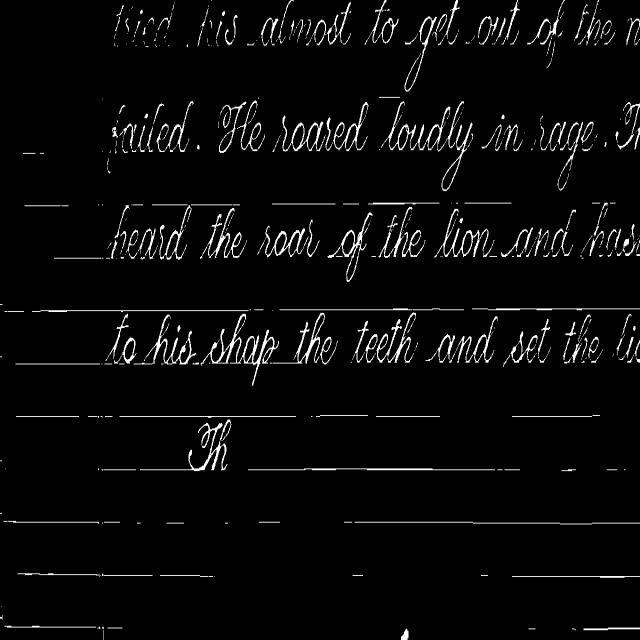hand: (400, 628, 408, 639)
noise: (278, 307, 640, 316), (134, 511, 230, 534), (341, 518, 640, 525), (248, 467, 522, 474), (4, 625, 122, 639), (4, 308, 271, 314), (17, 571, 215, 578), (118, 414, 296, 421), (540, 625, 640, 637), (510, 572, 640, 579), (98, 465, 188, 472), (2, 519, 122, 524), (510, 414, 600, 419), (310, 413, 370, 419), (368, 202, 440, 206), (150, 203, 240, 206), (16, 363, 103, 366), (16, 414, 80, 418), (374, 414, 440, 417), (270, 203, 335, 206), (269, 360, 296, 366), (560, 468, 592, 473), (86, 414, 114, 419), (24, 204, 69, 207), (22, 150, 44, 156), (258, 519, 282, 524), (54, 257, 110, 259), (599, 468, 620, 473), (464, 202, 512, 204), (350, 572, 366, 578), (126, 203, 144, 208), (528, 628, 544, 633), (379, 96, 400, 99), (341, 203, 360, 206), (480, 572, 488, 576), (590, 202, 600, 205)
not-noise: (381, 101, 473, 188), (106, 101, 194, 172), (200, 314, 277, 385), (246, 0, 352, 47), (273, 101, 369, 151), (406, 0, 459, 88), (534, 116, 596, 190), (109, 205, 192, 259), (500, 210, 575, 257), (426, 316, 498, 363), (581, 203, 640, 257), (354, 312, 416, 363), (434, 208, 496, 257), (328, 212, 372, 281), (114, 4, 174, 48), (144, 314, 196, 364), (528, 0, 565, 67), (218, 100, 264, 152), (200, 207, 246, 258), (258, 219, 319, 257), (378, 207, 424, 257), (294, 312, 336, 364), (470, 0, 519, 44), (188, 420, 231, 470), (506, 320, 550, 363), (563, 315, 602, 363), (196, 2, 238, 46), (575, 0, 615, 45), (482, 114, 524, 151), (106, 314, 136, 364), (220, 100, 258, 139), (366, 0, 398, 44), (200, 14, 241, 45), (614, 101, 640, 149), (616, 315, 640, 362), (626, 18, 640, 44), (249, 123, 265, 144), (604, 141, 608, 147), (196, 144, 200, 149)
